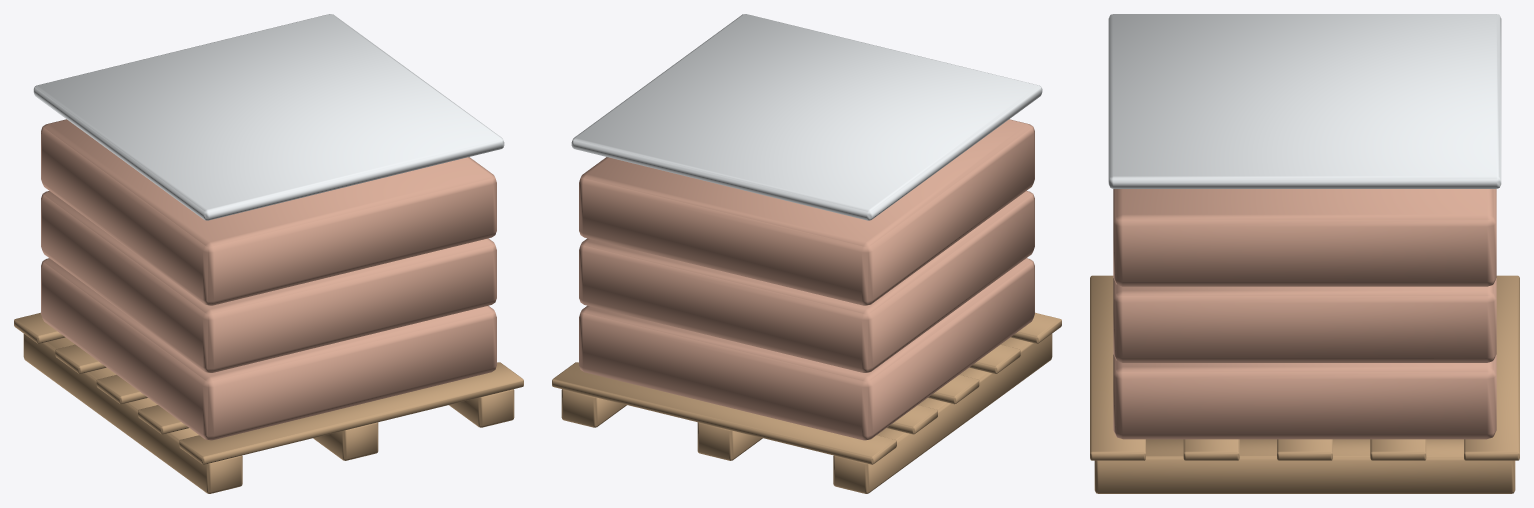
Rendered from pallet.glb.
The picture shows the model from 3 angles, left to right: view 1: azimuth 30°, elevation 25°; view 2: azimuth 150°, elevation 25°; view 3: azimuth 270°, elevation 25°; orthographic projection. The views are drawn at different scales.
Visible parts, largest first — view 1: Body; view 2: Body; view 3: Body.
Part boxes in pixels (x1,y1,x2,y2): Body: (14, 14, 523, 493); Body: (552, 14, 1061, 493); Body: (1090, 14, 1519, 493).
Bounding box in the file's own units: 0.9 × 0.745 × 0.92.
